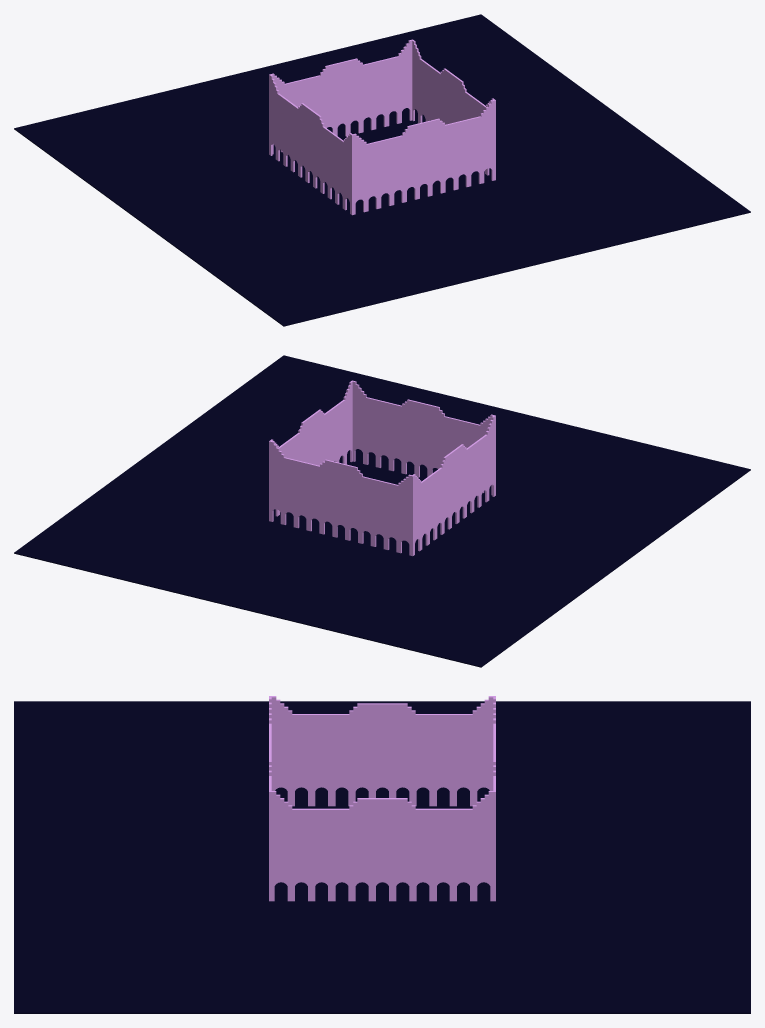
File: build.glb
3 renders of one model, top to bottom at view 1: azimuth 30°, elevation 25°; view 2: azimuth 150°, elevation 25°; view 3: azimuth 270°, elevation 25°, orthographic. The views are drawn at different scales.
Parts seen in each view (by area): view 1: imagetostl_mesh0, imagetostl_mesh444, imagetostl_mesh606, imagetostl_mesh224, imagetostl_mesh144; view 2: imagetostl_mesh0, imagetostl_mesh601, imagetostl_mesh609, imagetostl_mesh224, imagetostl_mesh144, imagetostl_mesh6; view 3: imagetostl_mesh0, imagetostl_mesh120, imagetostl_mesh602, imagetostl_mesh2.
Boxes of the visible parts, bbox=[...] form: imagetostl_mesh0: bbox=[14, 14, 750, 325]; imagetostl_mesh444: bbox=[353, 101, 494, 214]; imagetostl_mesh606: bbox=[272, 40, 412, 154]; imagetostl_mesh224: bbox=[270, 75, 350, 214]; imagetostl_mesh144: bbox=[412, 41, 492, 175]; imagetostl_mesh0: bbox=[14, 355, 750, 666]; imagetostl_mesh601: bbox=[270, 442, 411, 555]; imagetostl_mesh609: bbox=[352, 381, 492, 495]; imagetostl_mesh224: bbox=[414, 416, 494, 555]; imagetostl_mesh144: bbox=[272, 382, 352, 516]; imagetostl_mesh6: bbox=[14, 553, 481, 667]; imagetostl_mesh0: bbox=[14, 701, 750, 1012]; imagetostl_mesh120: bbox=[271, 792, 493, 901]; imagetostl_mesh602: bbox=[271, 697, 493, 806]; imagetostl_mesh2: bbox=[14, 1012, 750, 1013].
Size of the model in its own units: 160 by 27.32 by 160.
